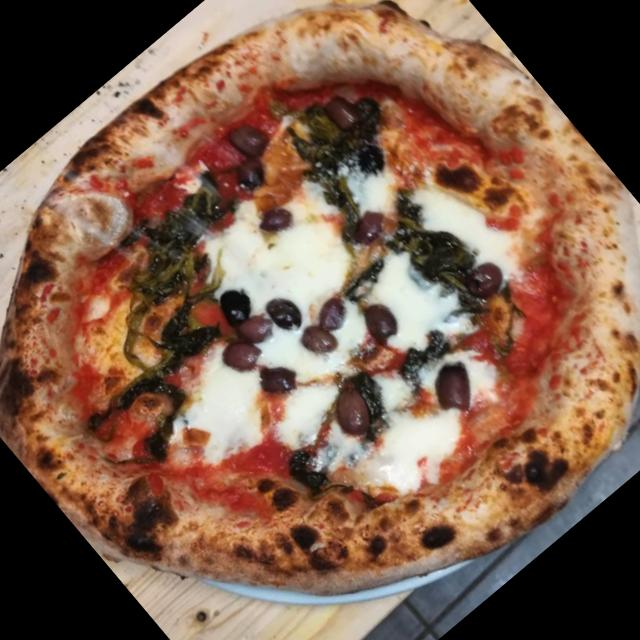black_olives: (317, 376, 388, 449), (424, 352, 487, 416), (223, 111, 276, 166), (258, 284, 310, 338), (356, 296, 406, 346), (319, 89, 366, 138), (233, 302, 280, 350), (252, 198, 300, 244), (460, 257, 507, 303), (213, 282, 260, 326), (347, 198, 391, 243), (298, 319, 340, 362), (313, 294, 351, 332), (222, 338, 258, 377)
pizza: (0, 1, 640, 598)
